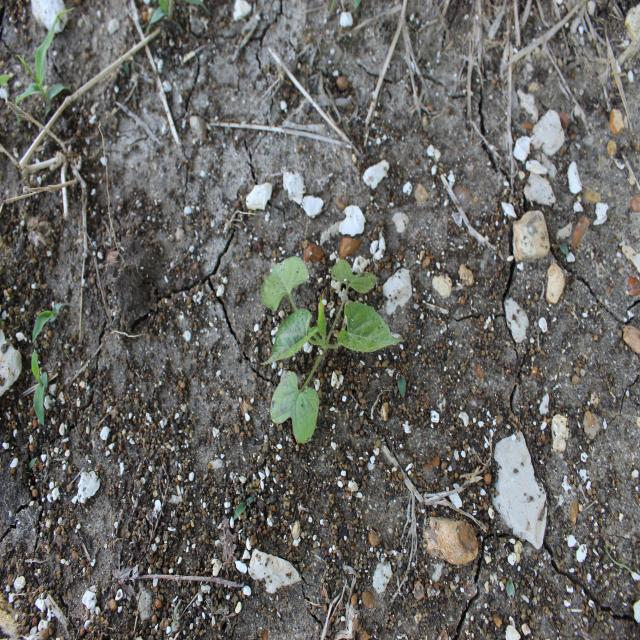MorningGlory: (259, 253, 407, 446)
